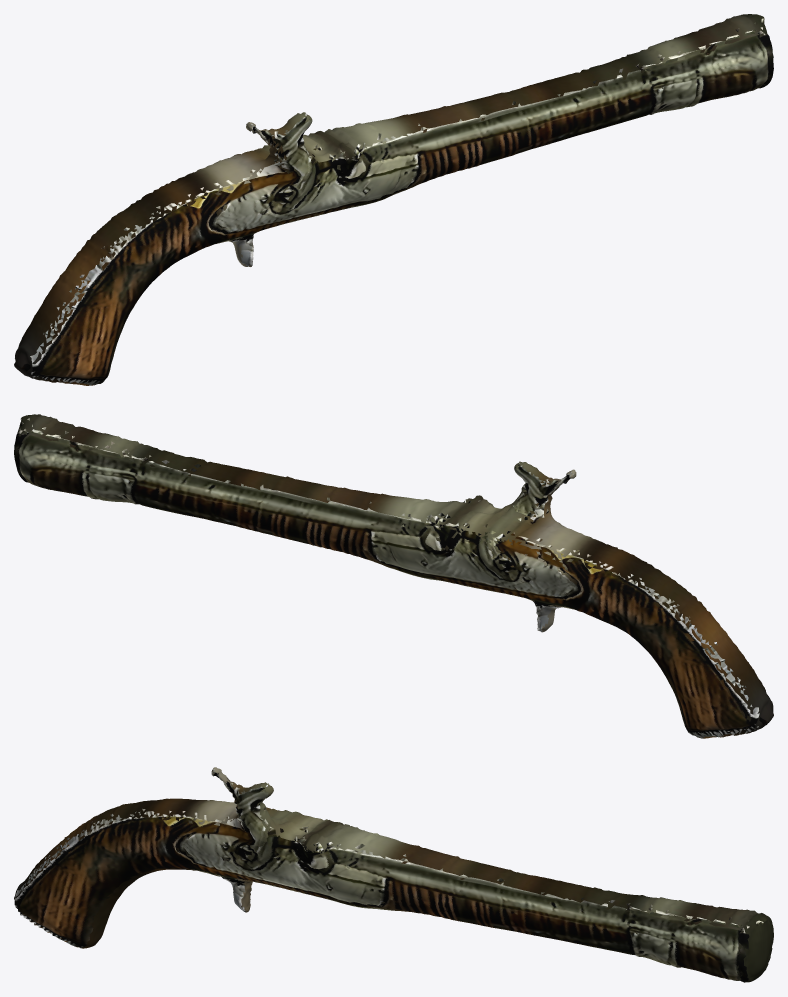
Rendered from kfl-2171.glb.
3 renders of one model, top to bottom at view 1: azimuth 30°, elevation 25°; view 2: azimuth 150°, elevation 25°; view 3: azimuth 330°, elevation 25°, orthographic. The views are drawn at different scales.
Visible parts, largest first — view 1: kfl-2171; view 2: kfl-2171; view 3: kfl-2171.
Boxes of the visible parts, x1=… form: kfl-2171: x1=14, y1=14, x2=773, y2=385; kfl-2171: x1=14, y1=414, x2=773, y2=738; kfl-2171: x1=14, y1=767, x2=773, y2=982.
Size of the model in its own units: 0.9874 by 0.2865 by 0.1312.
Materials: 4 (4 with a texture image).
